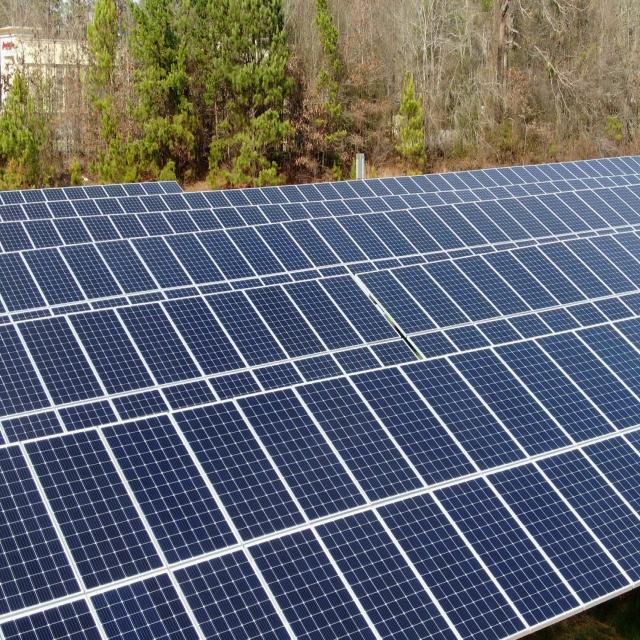clean-solar-panel: (1, 158, 640, 638)
